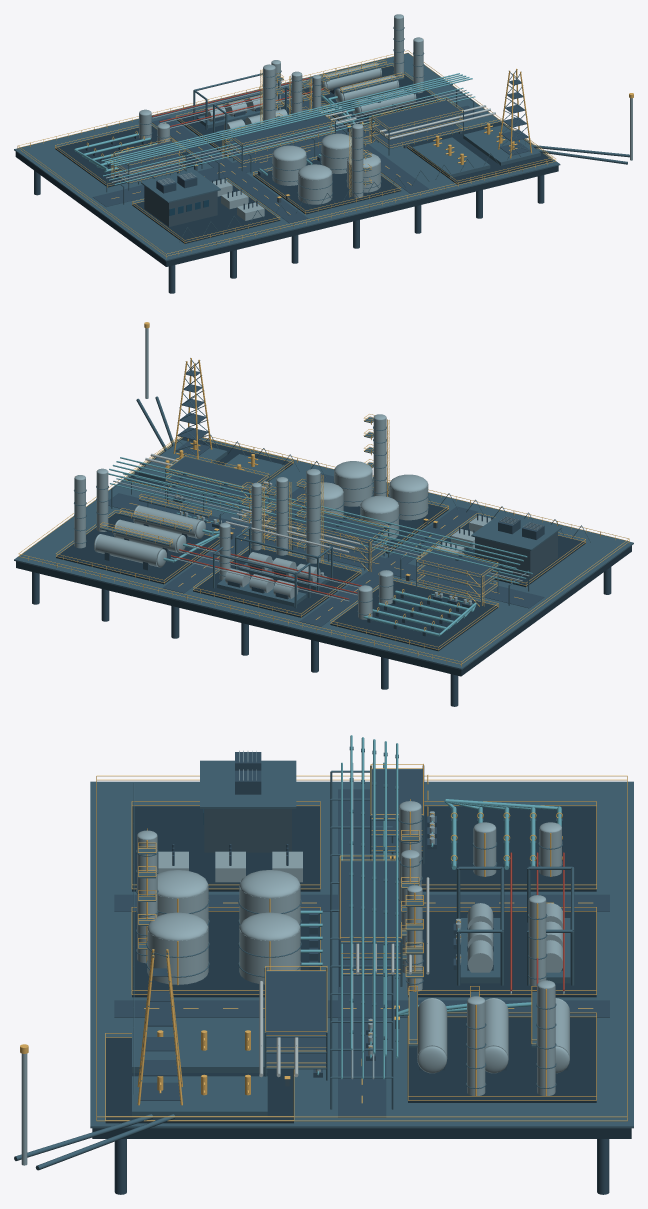
The model's file is plant-model.glb.
3 views of the same model, one above another, from view 1: azimuth 30°, elevation 25°; view 2: azimuth 150°, elevation 25°; view 3: azimuth 270°, elevation 25° (orthographic). The views are drawn at different scales.
Parts seen in each view (by area): view 1: Plant equipment (×51); view 2: Plant equipment (×44); view 3: Plant equipment (×61).
Boxes of the visible parts, x1=… form: Plant equipment (×51): x1=14, y1=17, x2=560, y2=266; Plant equipment (×44): x1=14, y1=417, x2=633, y2=676; Plant equipment (×61): x1=14, y1=735, x2=633, y2=1194.
Bounding box in the file's own units: 213 × 57.08 × 141.
